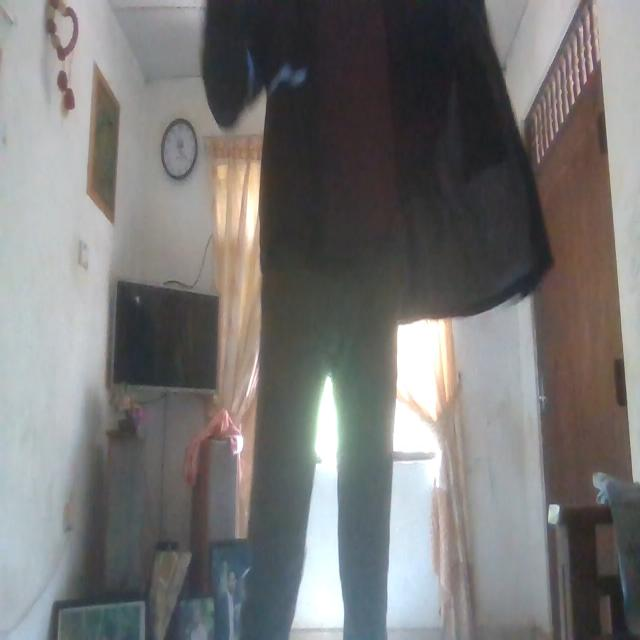Jacket_Wearer: (203, 0, 533, 330)
Person: (232, 0, 431, 640)
